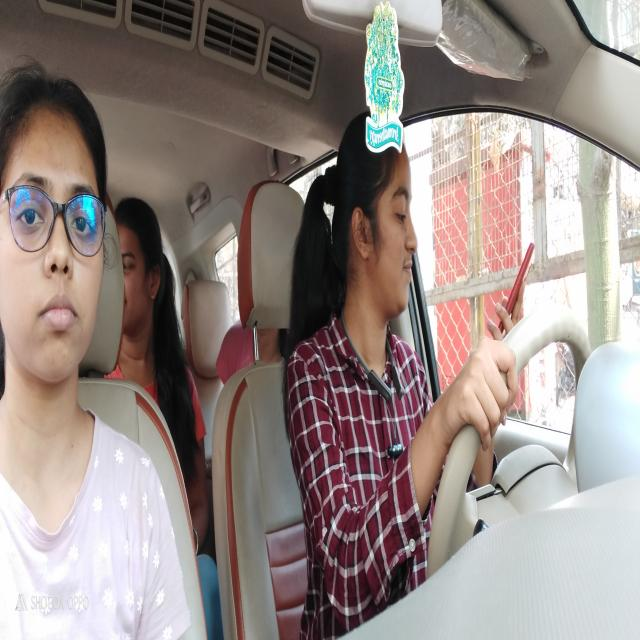mobile: (490, 232, 536, 334)
person: (0, 59, 107, 410), (324, 108, 416, 346), (115, 191, 170, 347)
